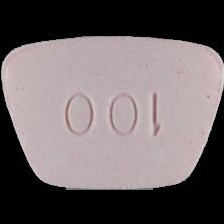69189-0102: (0, 0, 224, 224)
